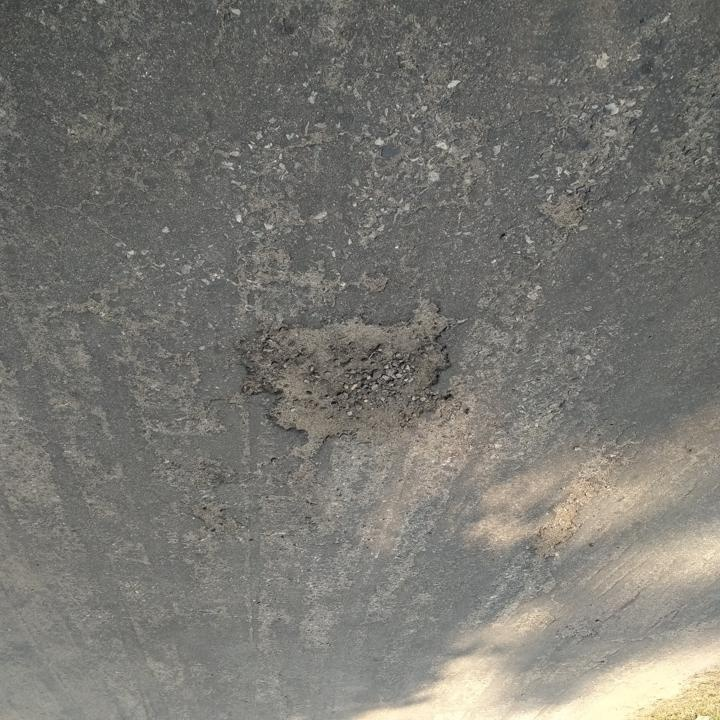pothole: (227, 298, 465, 457), (530, 186, 590, 234)
